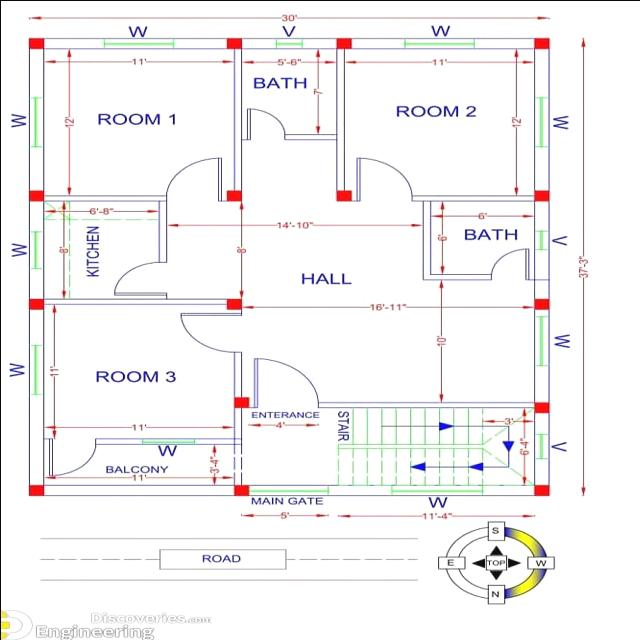column: (528, 34, 556, 51), (24, 34, 50, 52), (23, 187, 48, 204), (222, 34, 248, 50), (220, 295, 243, 313), (530, 294, 552, 312), (530, 188, 554, 204), (330, 187, 354, 203), (222, 188, 246, 204), (332, 34, 355, 50), (530, 398, 553, 414), (229, 482, 252, 498), (24, 481, 46, 497), (25, 295, 48, 310), (528, 482, 552, 496), (230, 394, 249, 408)
